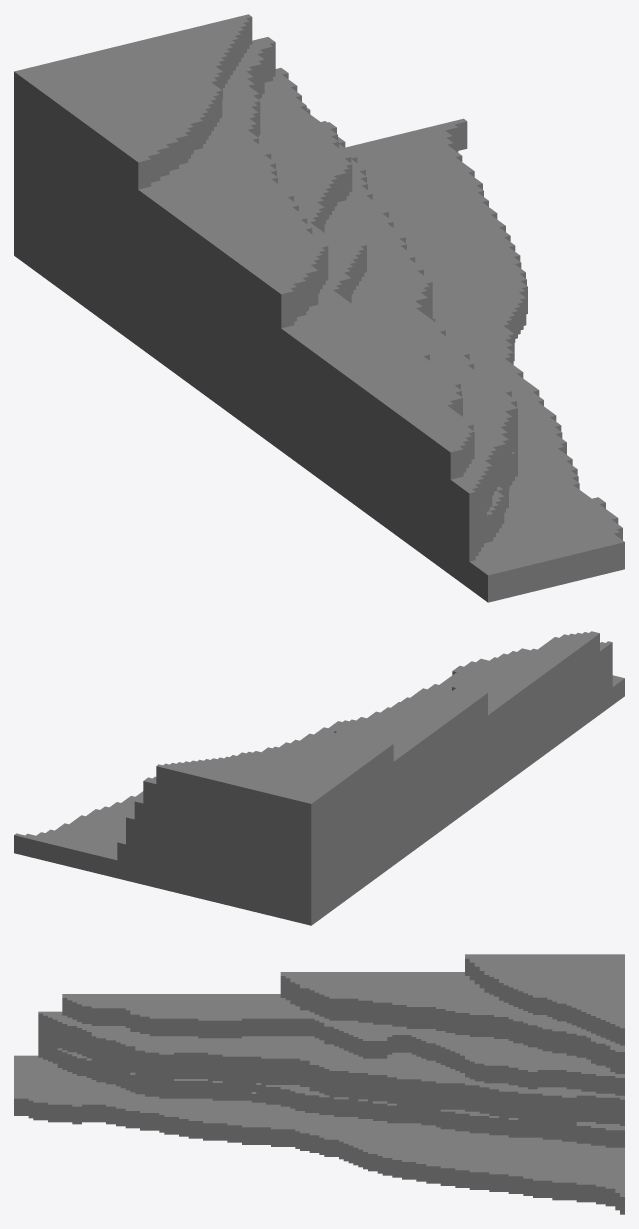
Rendered from Main Island-23.obj.
3 views of the same model, one above another, from view 1: azimuth 30°, elevation 25°; view 2: azimuth 150°, elevation 25°; view 3: azimuth 270°, elevation 25° (orthographic). The views are drawn at different scales.
Visible parts, largest first — view 1: Main Island-5; view 2: Main Island-5; view 3: Main Island-5.
Boxes of the visible parts, bbox=[...] form: Main Island-5: bbox=[14, 14, 624, 602]; Main Island-5: bbox=[14, 631, 624, 925]; Main Island-5: bbox=[14, 954, 624, 1214].
Bounding box in the file's own units: 69 × 27 × 126.
1 material, 1 textured.
